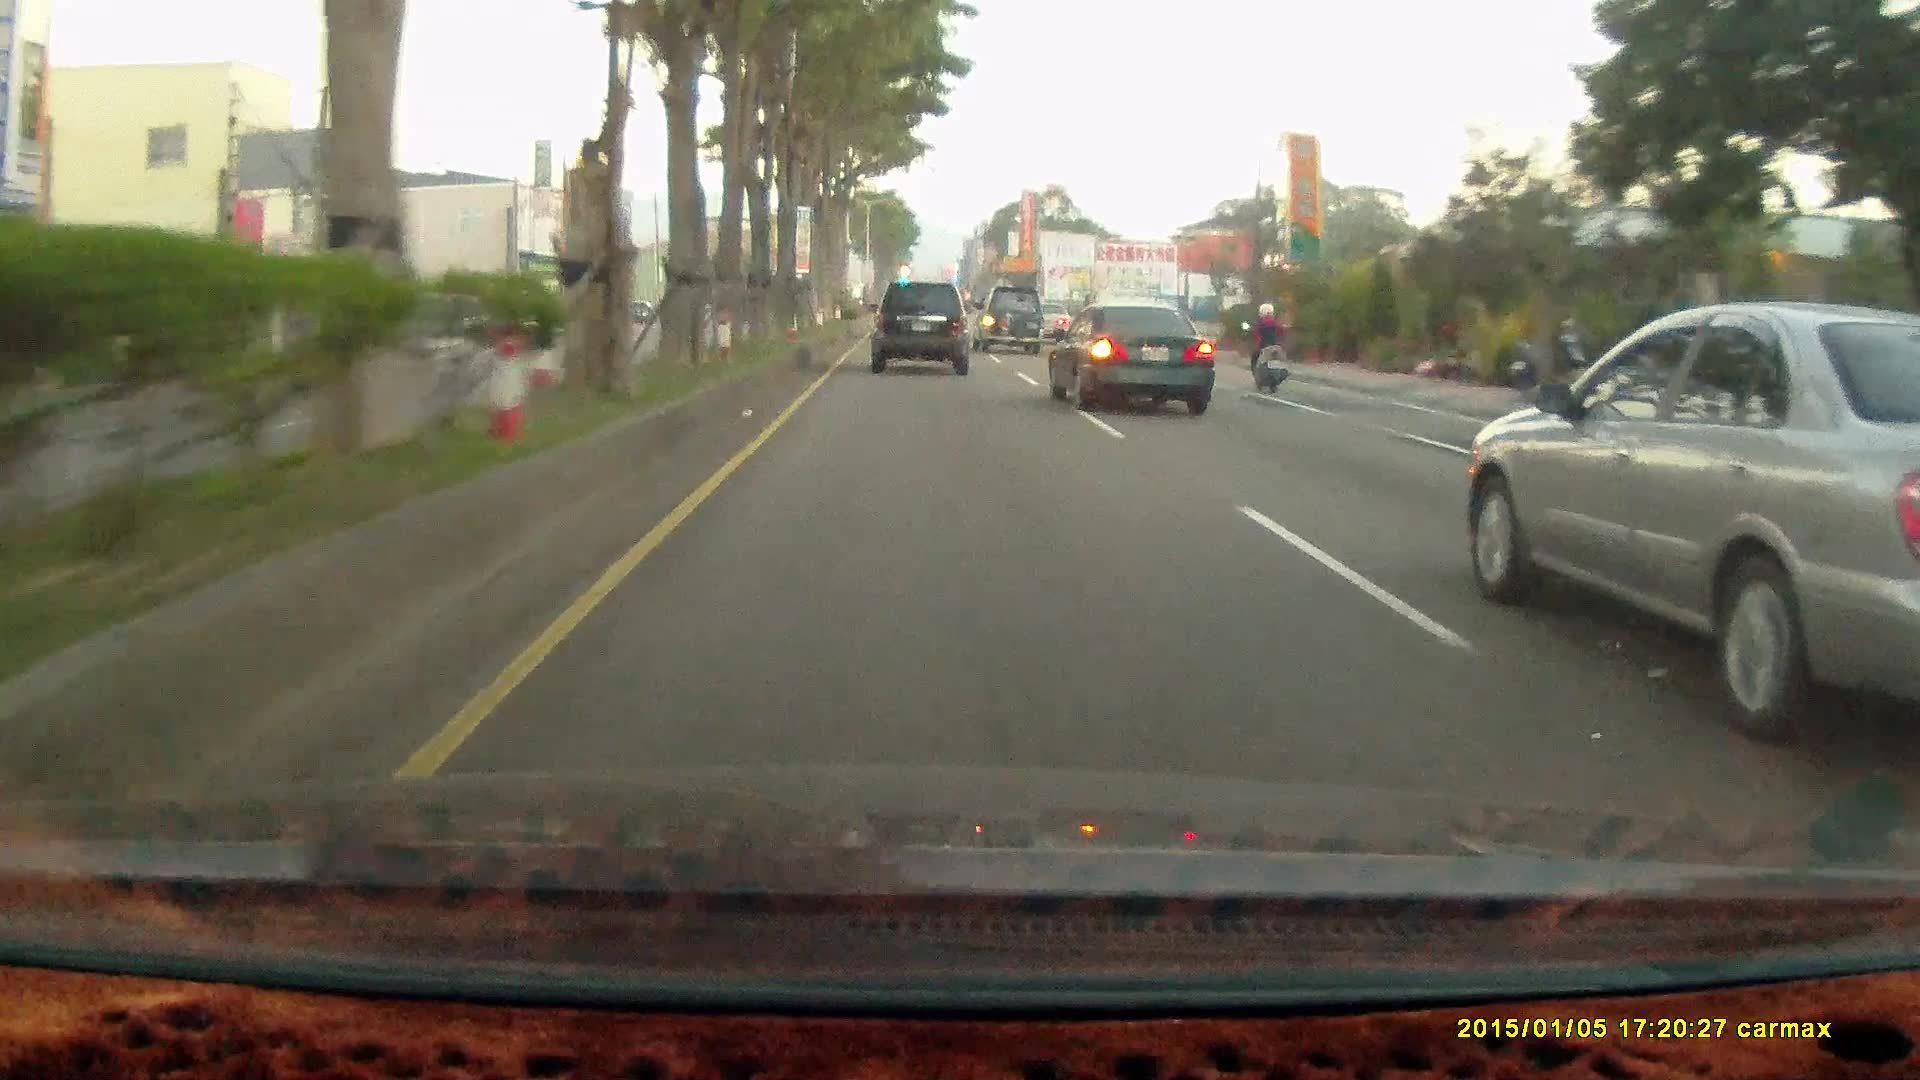rider: (1233, 292, 1301, 404), (1237, 300, 1290, 394)
vehicle: (1460, 297, 1915, 740), (1044, 301, 1219, 415), (1045, 302, 1214, 417), (867, 281, 976, 379), (865, 282, 967, 375), (976, 285, 1047, 358), (968, 282, 1039, 353)
